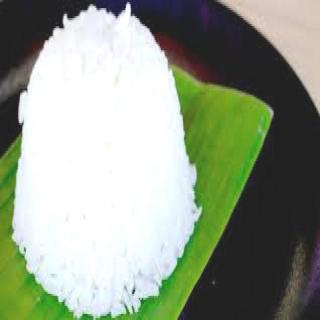Nasi: (12, 2, 205, 320)
